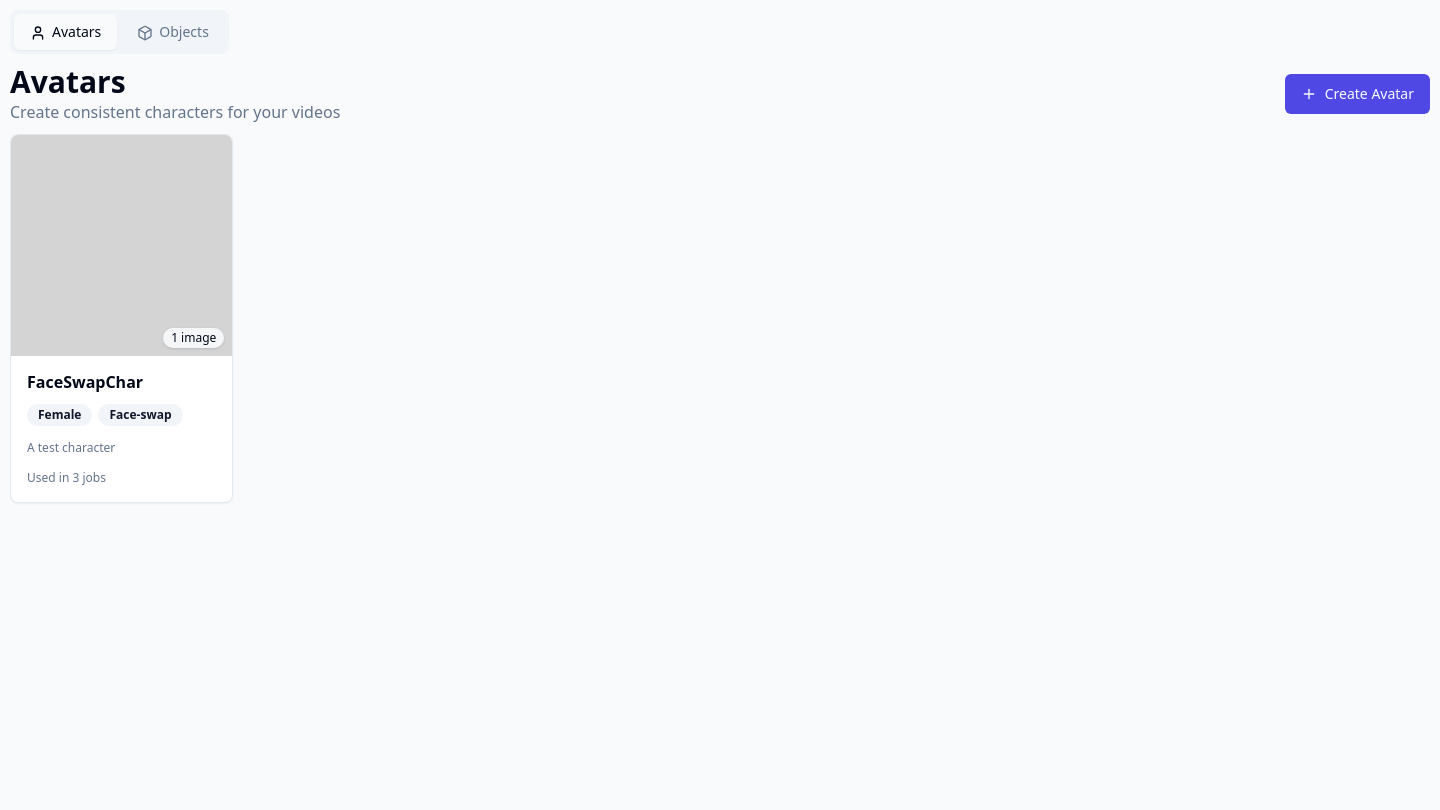
Avatars Page › preserves consistency strategy when opening edit modal
Check: the heading "FaceSwapChar" is shown, box 27,371 -> 143,393
// Click the card to open edit modal
Click the button "FaceSwapChar" at x=122, y=318, box 10,134 -> 233,503
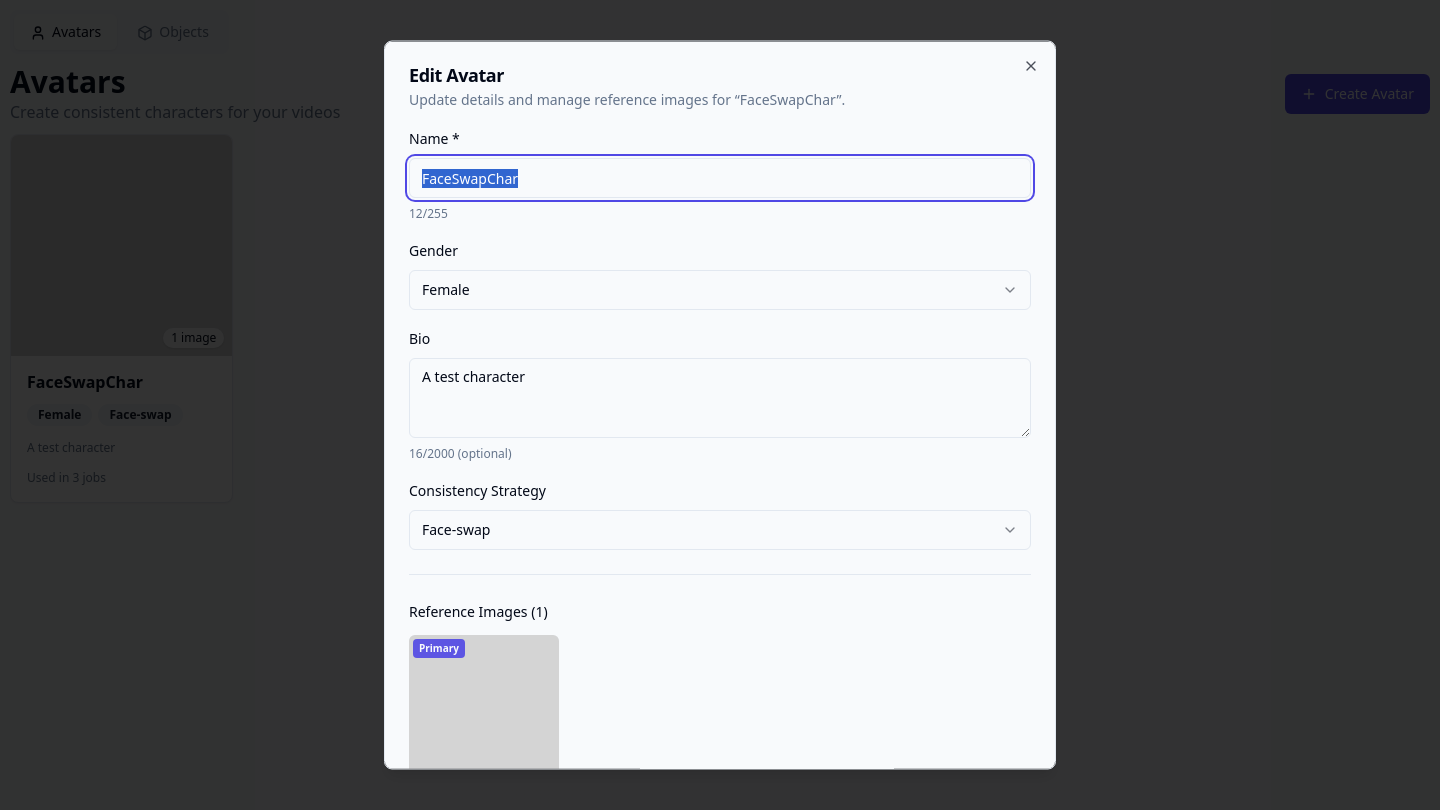
Check: the heading "Edit Avatar" is shown, box 409,62 -> 504,86
